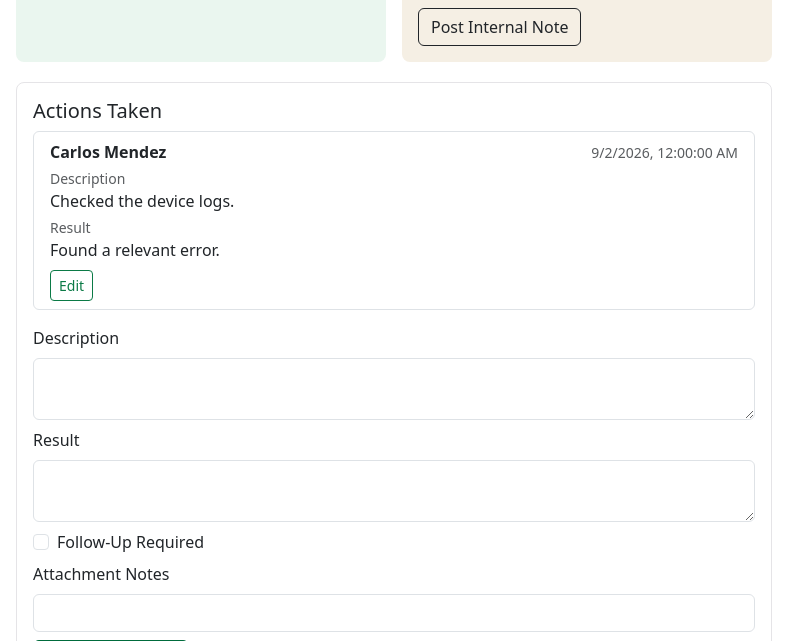
Scenario: StaffTicketDetail - Actions Taken edit (UI-03) › pre-fills the edit form and Save persists the change
The width and height of the screenshot is (789, 641).
(page scrolled)
Expected: the text "Checked the device logs." is shown, [50,190,234,212]
Click the button "Edit" at (72, 286), box [50,270,93,301]
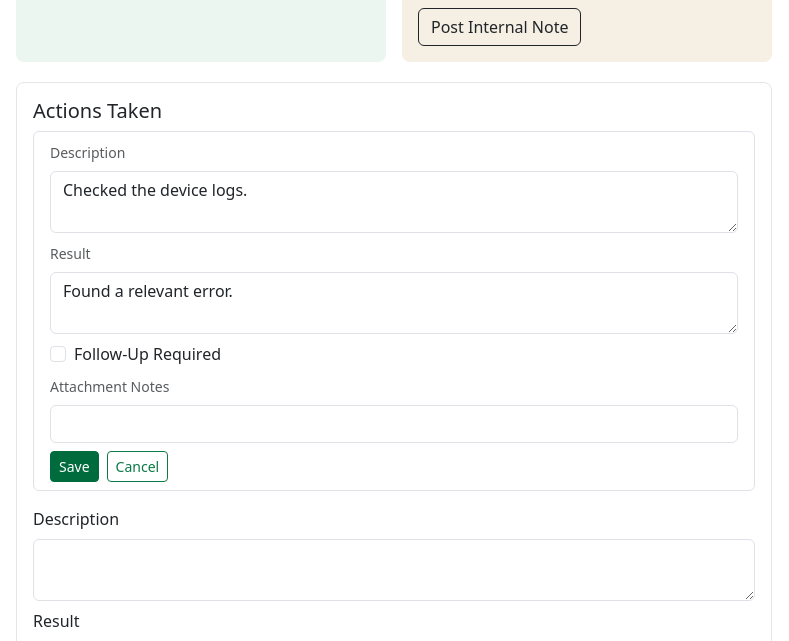
Expected: the 1st text box labelled "Description" holds "Checked the device logs."
Replace the text in the 1st text box labelled "Description" with "Edited description." at (394, 202), box [50,171,738,233]
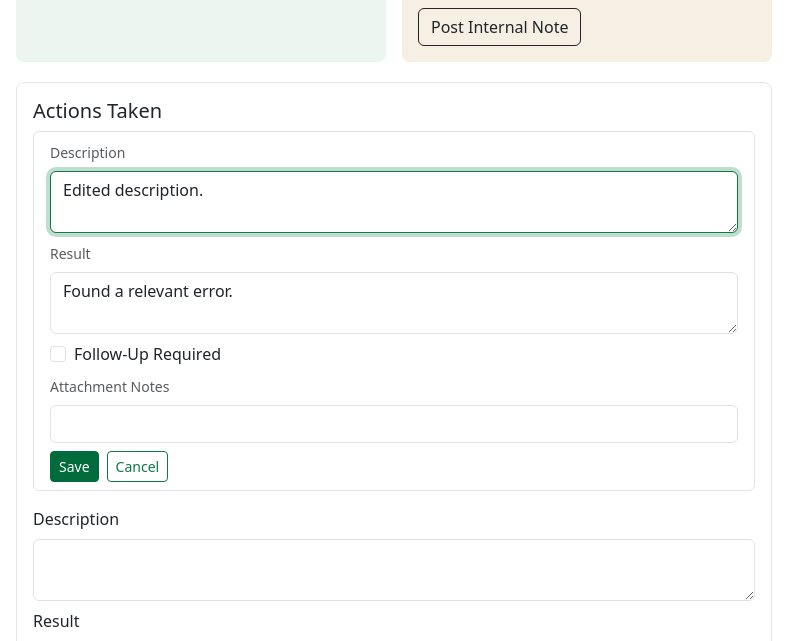
Click the button "Save" at (74, 467), box [50,451,99,482]
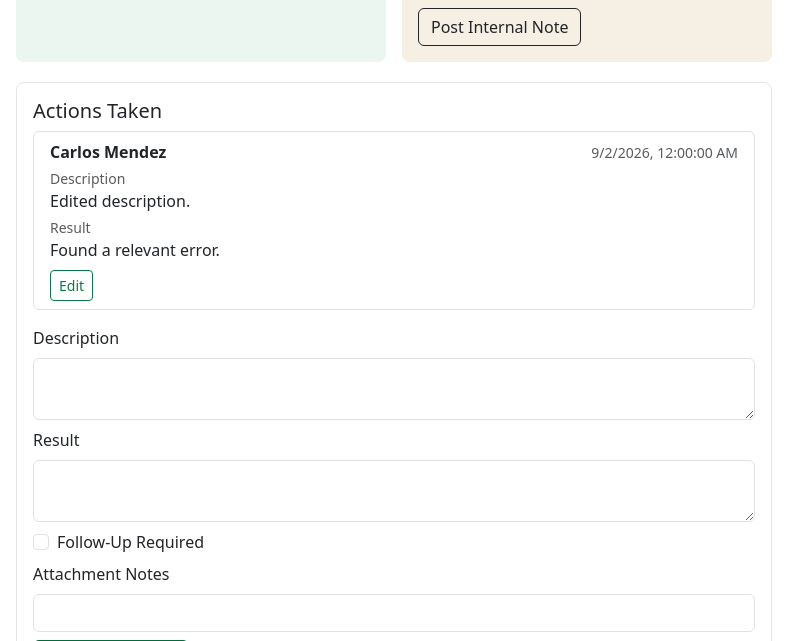
Expected: the text "Edited description." is shown, [50,190,190,212]
